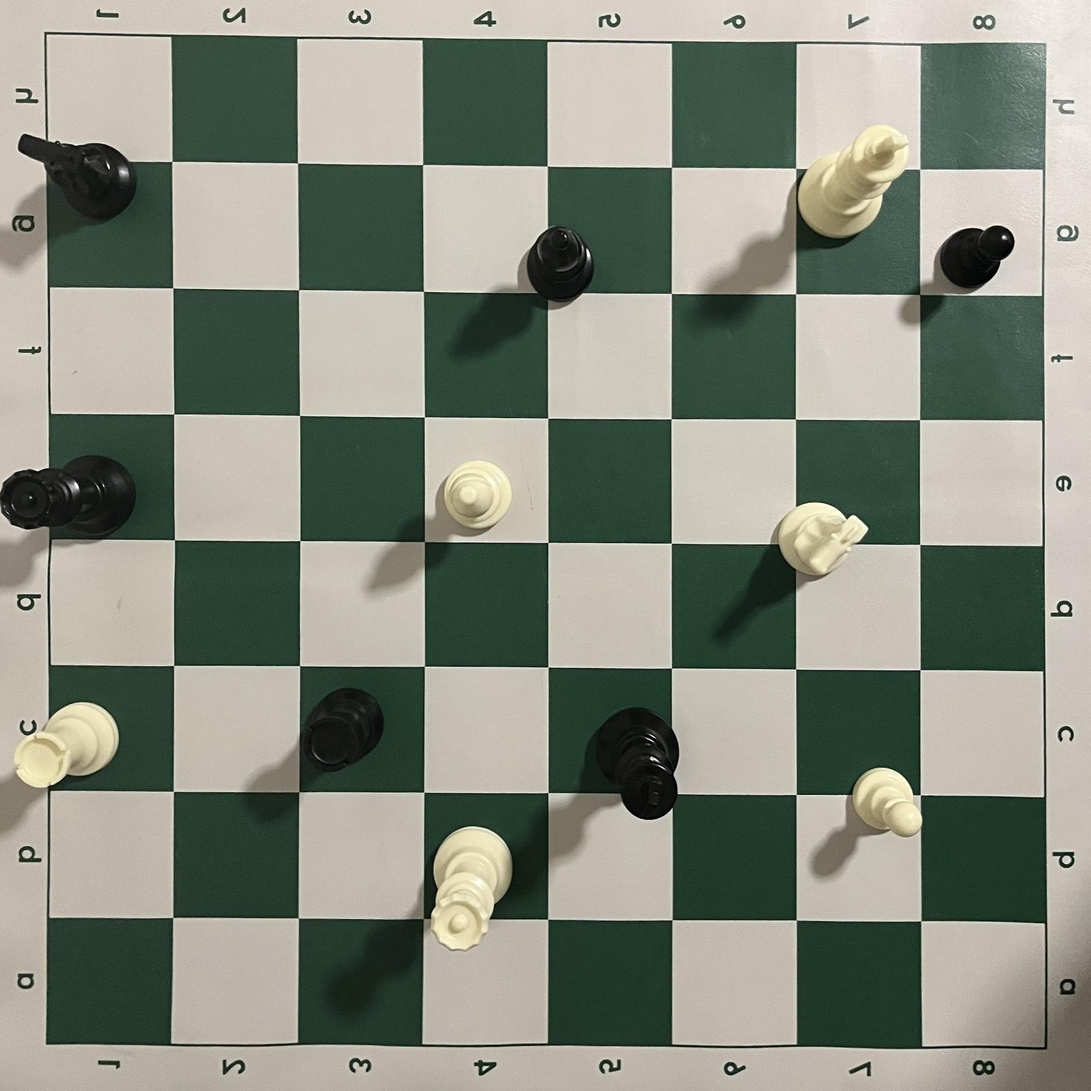black_bishop: (525, 225, 595, 302)
black_king: (594, 706, 680, 820)
black_knight: (17, 133, 137, 219)
black_pawn: (939, 224, 1015, 288)
black_queen: (0, 454, 136, 538)
black_rook: (302, 688, 384, 774)
white_bishop: (443, 459, 513, 530)
white_king: (797, 124, 910, 238)
white_knight: (778, 502, 869, 576)
white_pawn: (851, 766, 923, 838)
white_queen: (430, 825, 514, 951)
white_rook: (13, 702, 119, 789)
